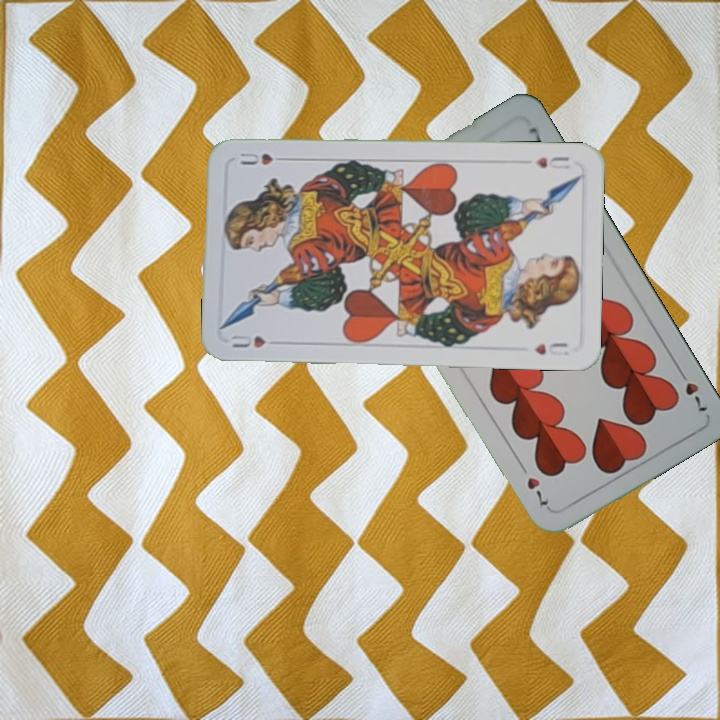H7: (673, 363, 711, 415)
HU: (530, 152, 572, 172), (227, 331, 269, 350)
